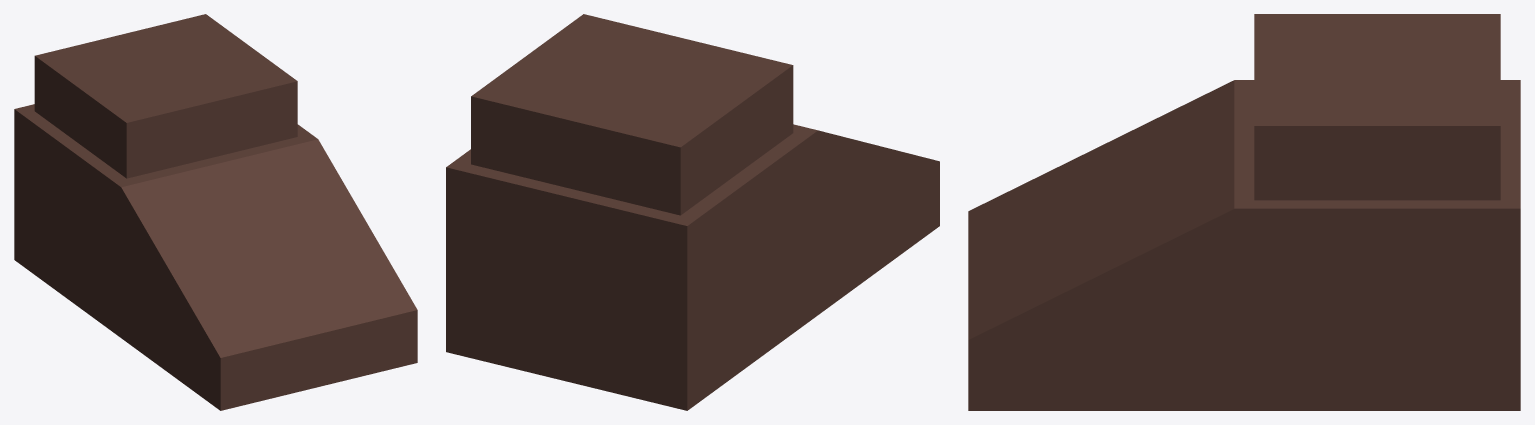
File: Lego_Part_26.fbx
The picture shows the model from 3 angles, left to right: view 1: azimuth 30°, elevation 25°; view 2: azimuth 150°, elevation 25°; view 3: azimuth 270°, elevation 25°; orthographic projection. The views are drawn at different scales.
Visible parts, largest first — view 1: Lego_Part_26; view 2: Lego_Part_26; view 3: Lego_Part_26.
Boxes of the visible parts, box(x1,y1,x2,y2) form: Lego_Part_26: box(14, 14, 417, 410); Lego_Part_26: box(446, 14, 939, 410); Lego_Part_26: box(968, 14, 1520, 410).
Size of the model in its own units: 1.55 by 1.55 by 2.81.
Materials: 1 (1 with a texture image).
